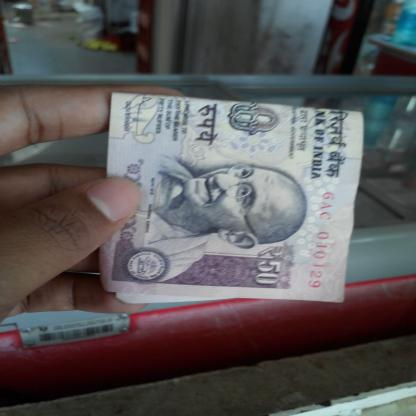Old50Front: (99, 92, 363, 304)
